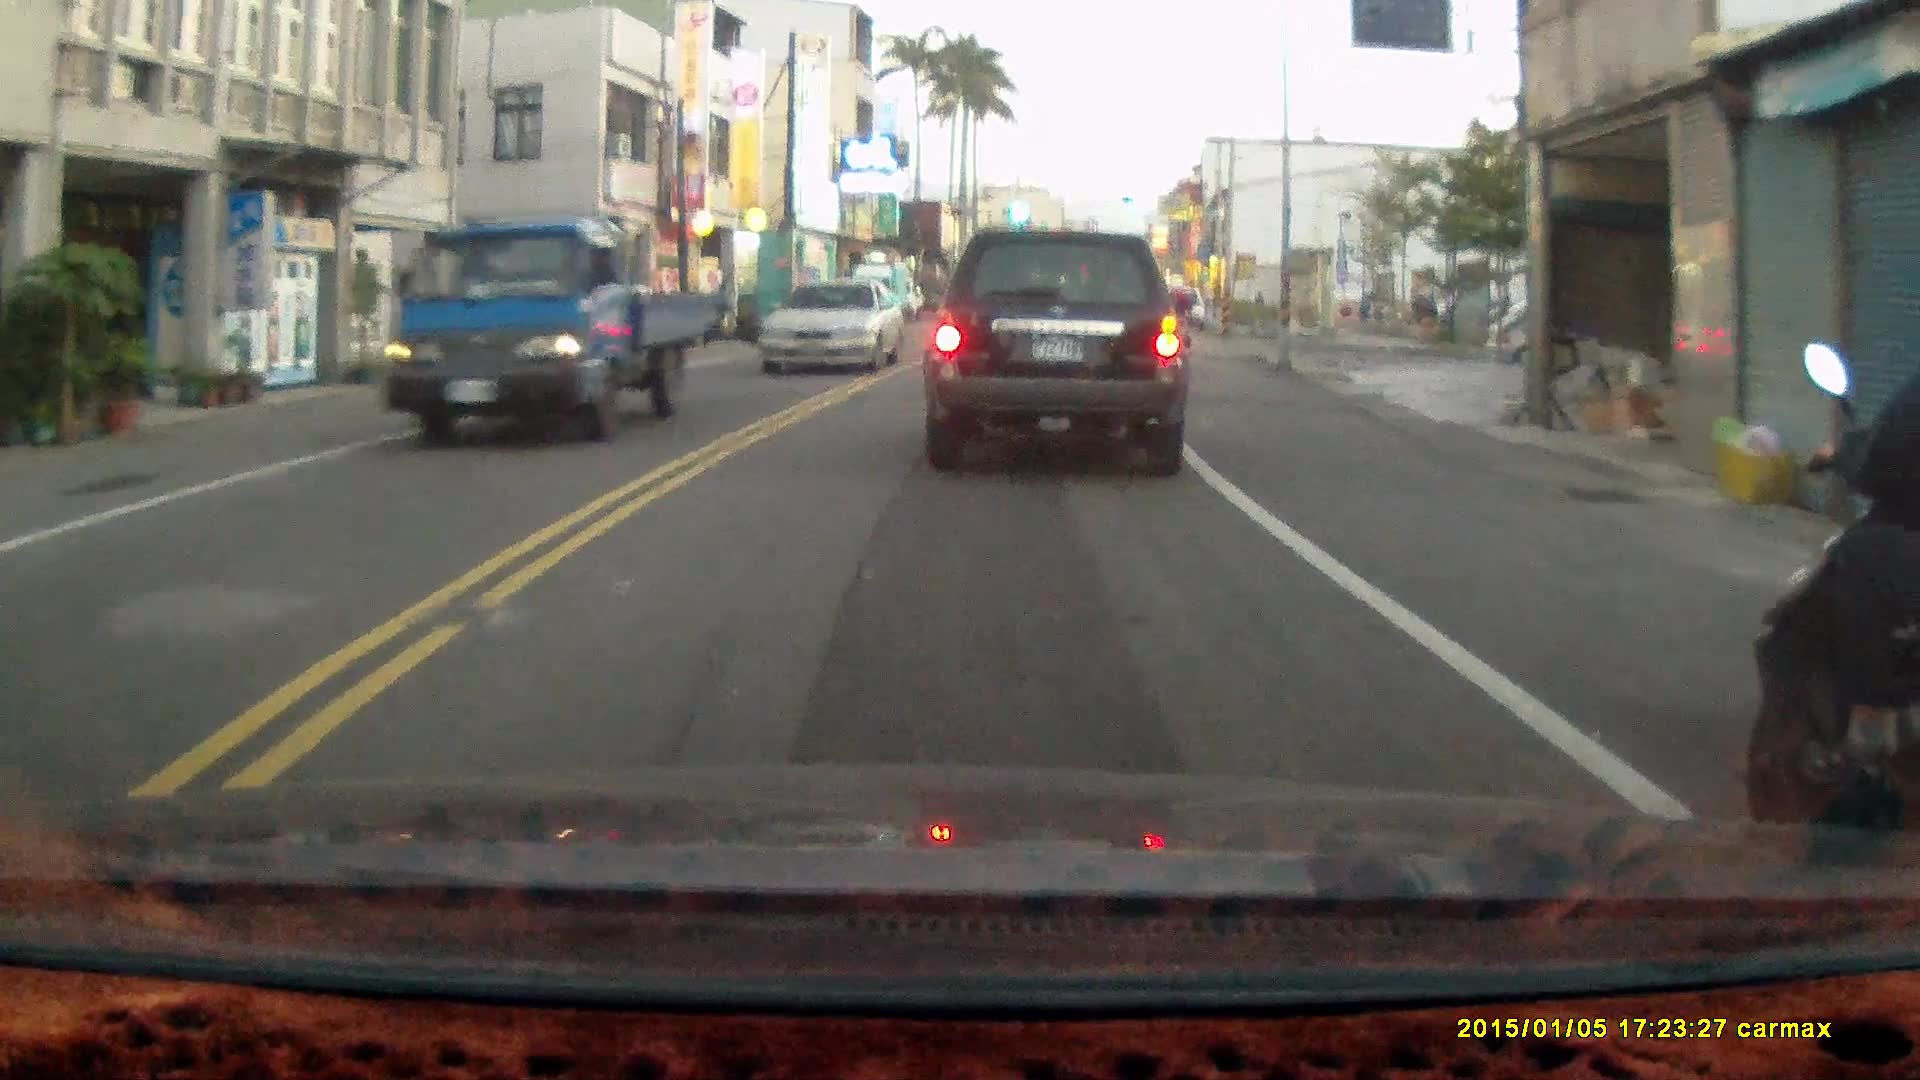pedestrian: (711, 277, 732, 333)
rider: (1752, 289, 1920, 901), (1159, 273, 1192, 359)
vehicle: (373, 214, 716, 447), (923, 226, 1194, 482), (762, 279, 907, 379)
